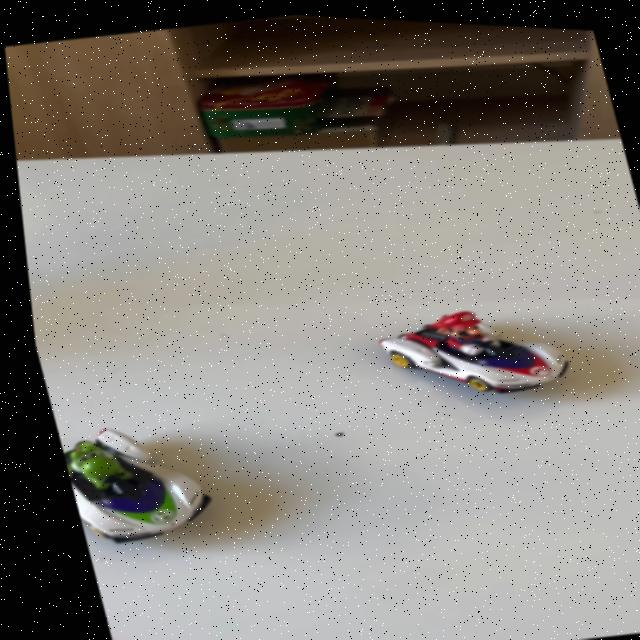mario: (332, 272, 582, 425)
yoshi: (46, 400, 254, 568)
